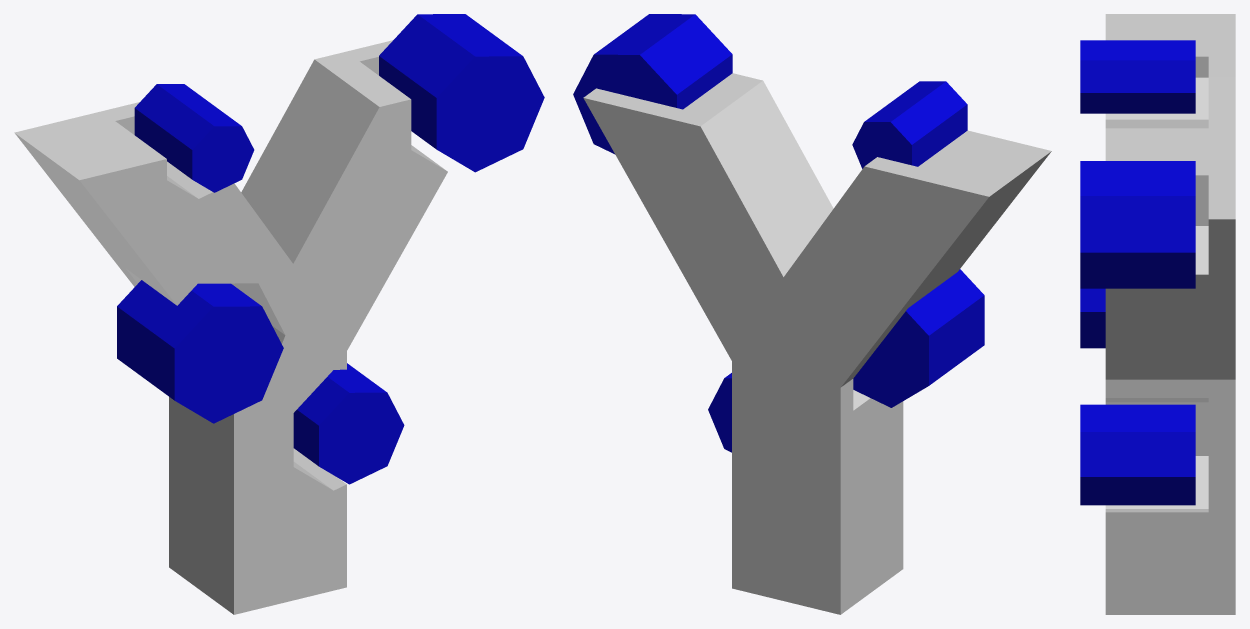
File: Ch_Lite_Y_01.fbx
The picture shows the model from 3 angles, left to right: view 1: azimuth 30°, elevation 25°; view 2: azimuth 150°, elevation 25°; view 3: azimuth 270°, elevation 25°; orthographic projection. The views are drawn at different scales.
Parts seen in each view (by area): view 1: sphere1; view 2: sphere1; view 3: sphere1.
Boxes of the visible parts, left/top/right/bottom form: sphere1: left=14, top=14, right=544, bottom=614; sphere1: left=573, top=14, right=1051, bottom=614; sphere1: left=1080, top=14, right=1235, bottom=614.
Size of the model in its own units: 0.8023 by 0.8668 by 0.2387.
